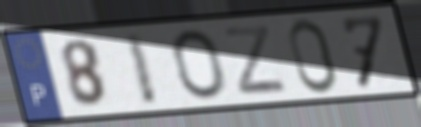0: (285, 16, 340, 96)
7: (339, 13, 386, 90)
8: (59, 37, 110, 110)
I: (121, 29, 162, 108)
O: (170, 28, 228, 101)
Z: (219, 23, 291, 97)
